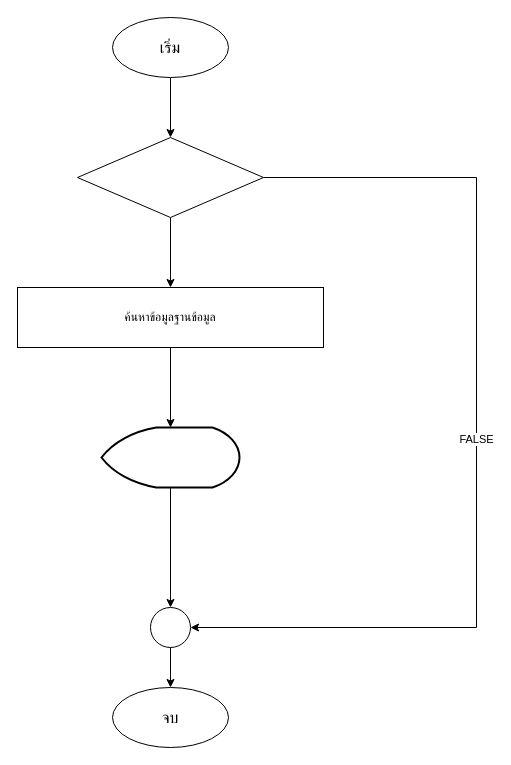
This 511x765 diagram has some shape labels left out. The box of each missing label's shape, as (x1, y1, x2, y2) in pixels:
ตรวจสอบฐานข้อมูล: (76, 136, 264, 218)
แสดงข้อมูลจากฐานข้อมูล: (100, 426, 240, 488)
